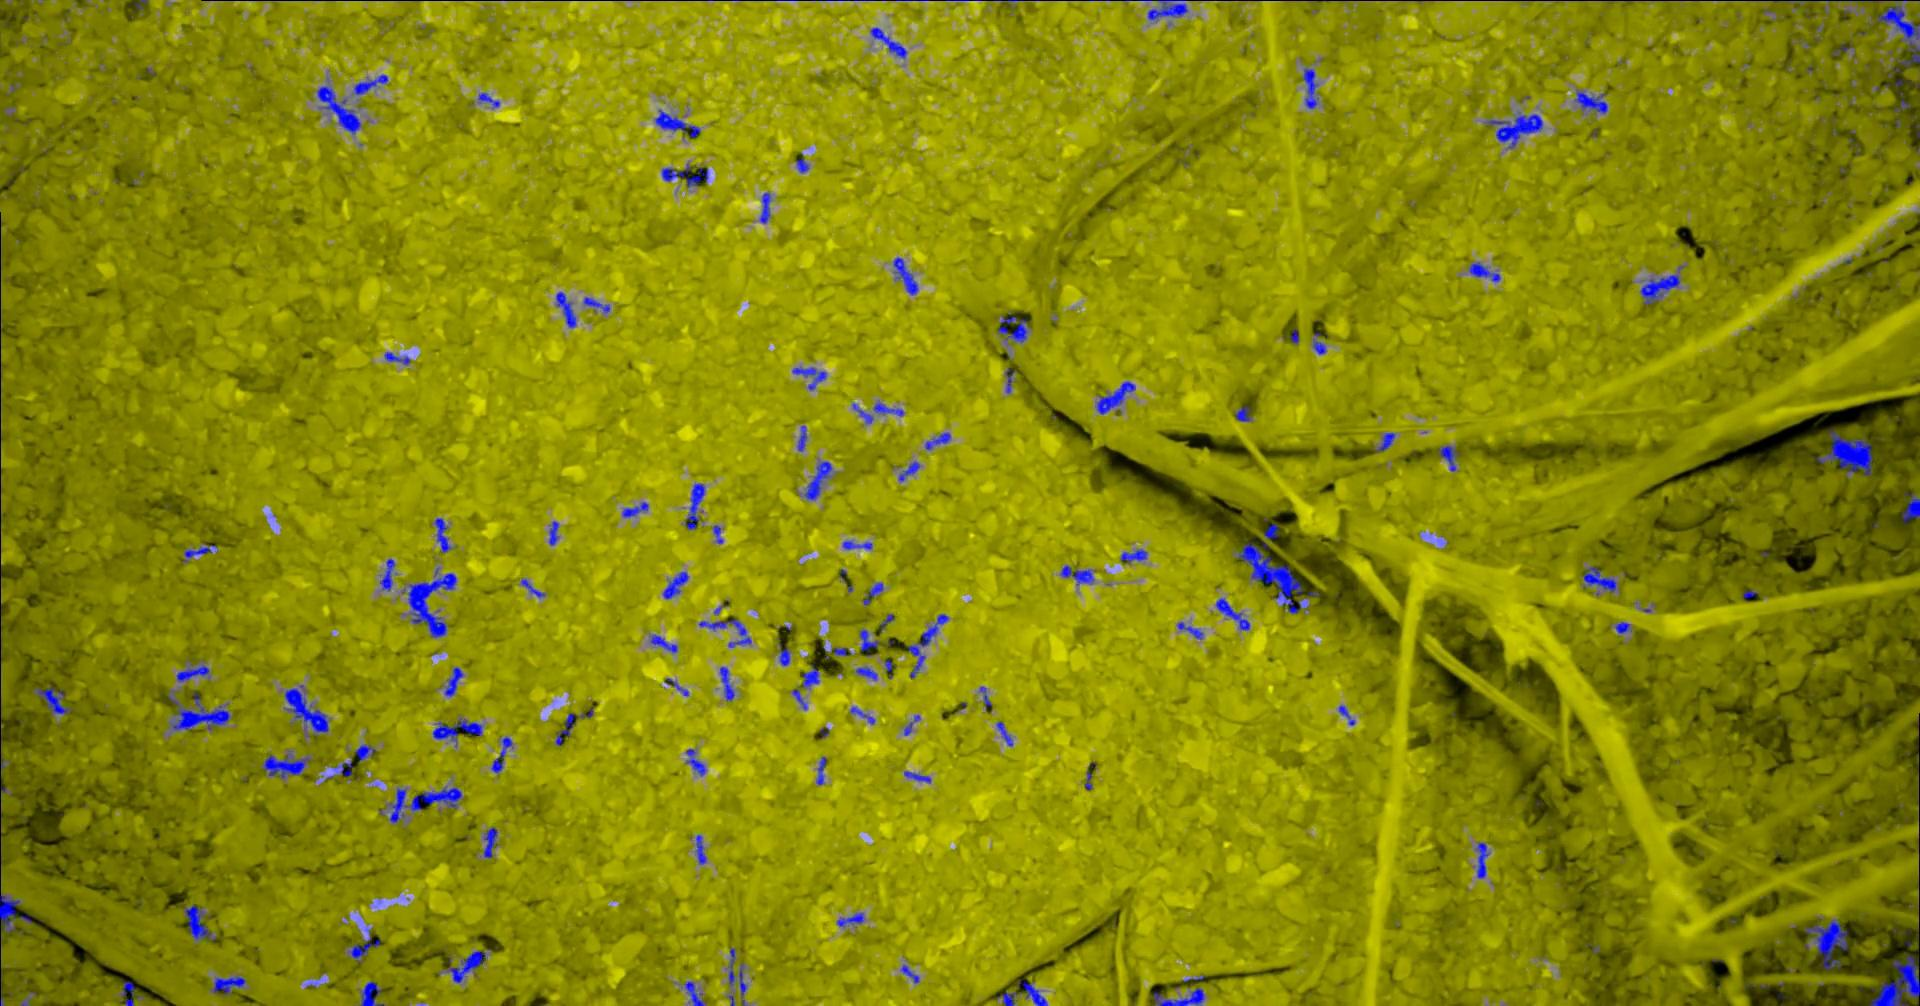ant: (1876, 3, 1919, 69), (389, 785, 461, 823), (907, 614, 949, 677), (168, 690, 230, 730), (1804, 918, 1848, 969), (316, 85, 361, 133), (1484, 112, 1542, 149), (283, 688, 328, 735), (0, 892, 30, 946), (430, 716, 483, 747), (698, 619, 750, 647), (555, 708, 593, 746), (262, 749, 310, 779), (1096, 381, 1135, 414), (654, 109, 700, 137), (446, 950, 485, 982), (1639, 274, 1679, 305), (869, 27, 905, 58), (33, 683, 71, 714), (662, 163, 709, 187), (1215, 597, 1250, 630), (183, 904, 215, 940), (803, 461, 830, 499), (728, 948, 745, 1005), (891, 257, 918, 293), (1137, 0, 1187, 19), (997, 312, 1029, 342), (1582, 565, 1617, 592), (1153, 987, 1204, 1005), (347, 935, 380, 962), (684, 483, 703, 528), (791, 366, 825, 390), (490, 735, 512, 772), (1575, 90, 1608, 113), (1017, 981, 1048, 1005), (555, 291, 575, 326), (662, 572, 688, 598), (353, 74, 387, 94), (1302, 67, 1318, 108), (182, 542, 216, 561), (1060, 565, 1095, 584), (212, 976, 245, 995), (434, 518, 452, 553), (1468, 262, 1500, 281), (1893, 91, 1910, 127), (177, 663, 210, 681), (359, 981, 383, 1005), (444, 666, 463, 696), (684, 748, 706, 775), (1901, 492, 1919, 523), (1437, 445, 1458, 471), (858, 629, 879, 655), (719, 666, 734, 700), (683, 981, 705, 1005), (378, 558, 394, 591), (1476, 842, 1490, 878), (119, 981, 140, 1005), (690, 835, 706, 864), (1176, 621, 1203, 639), (650, 634, 677, 652), (872, 401, 903, 417), (862, 582, 883, 605), (801, 663, 819, 688), (483, 826, 497, 857), (621, 500, 648, 517), (898, 461, 919, 481), (521, 578, 543, 597), (850, 706, 874, 724), (924, 432, 950, 448), (996, 720, 1012, 746), (852, 403, 872, 423), (583, 297, 610, 312), (664, 678, 688, 695), (836, 912, 863, 926), (1374, 432, 1394, 451), (1262, 522, 1277, 547), (383, 351, 410, 365), (900, 964, 919, 983), (477, 91, 499, 108), (903, 714, 919, 735), (1120, 547, 1145, 561), (996, 991, 1021, 1005), (903, 770, 930, 782), (791, 688, 808, 709), (354, 743, 375, 760), (759, 192, 770, 224), (331, 760, 350, 776), (1338, 705, 1354, 725), (855, 666, 876, 680), (1312, 332, 1324, 354), (979, 686, 990, 711), (795, 152, 809, 173), (842, 540, 872, 549), (1004, 367, 1015, 392), (1234, 405, 1251, 420), (817, 756, 825, 784), (778, 643, 789, 666), (797, 426, 806, 451), (549, 520, 557, 545), (1614, 621, 1630, 633), (712, 525, 723, 542), (830, 647, 851, 655), (1827, 0, 1879, 3), (0, 810, 1, 866)
